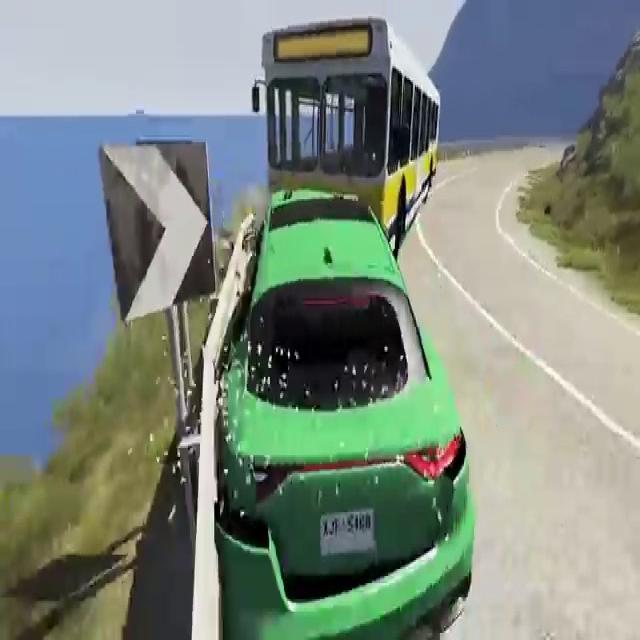severe: (205, 8, 476, 640)
